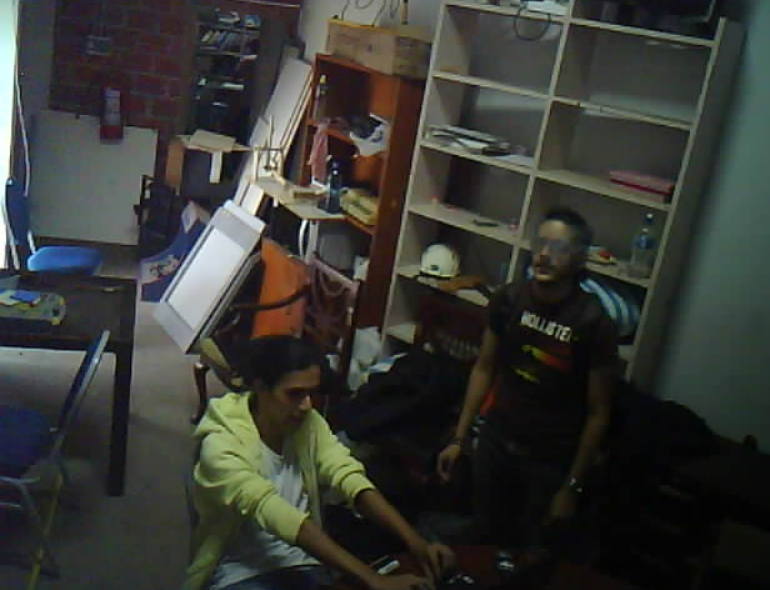person: (146, 328, 463, 590), (424, 185, 627, 540), (221, 24, 279, 120)
